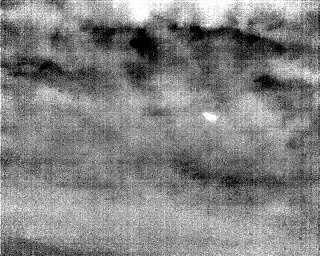BIRD: (201, 109, 220, 126)
